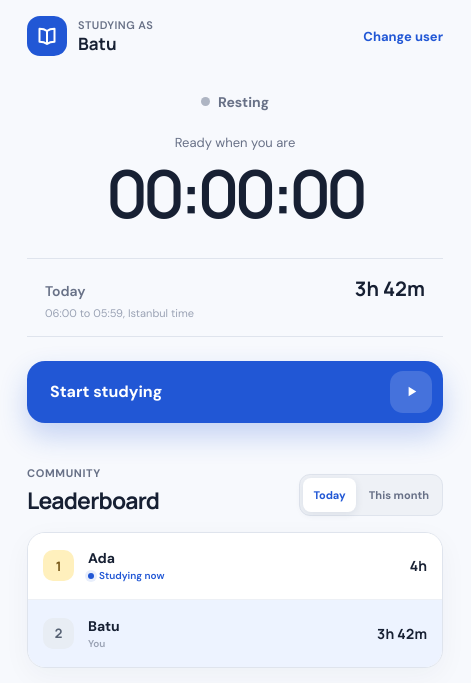
Test case: App › switches between today and monthly leaderboard rankings
Check: the text "Ada" is shown, box left=88, top=549, right=115, bottom=567
Check: the text "Studying now" is shown, box left=88, top=569, right=164, bottom=582
Click the button "This month". click: point(399, 495)
box: left=359, top=478, right=439, bottom=512
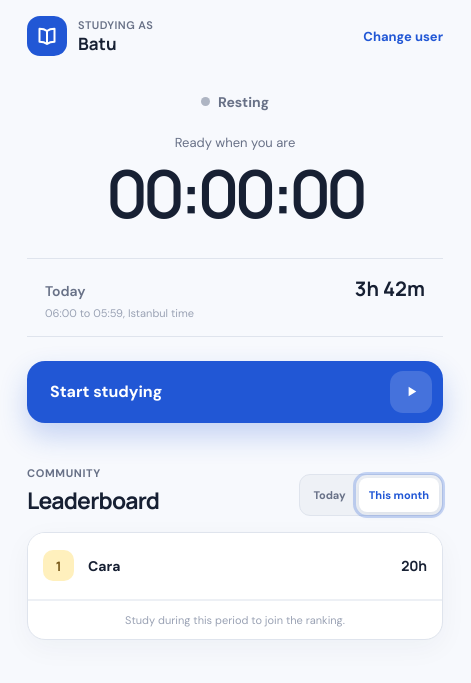
Check: the text "Cara" is shown, box left=88, top=557, right=120, bottom=575
Check: the text "Study during this period to join the ranking." is shown, box left=28, top=600, right=442, bottom=639
